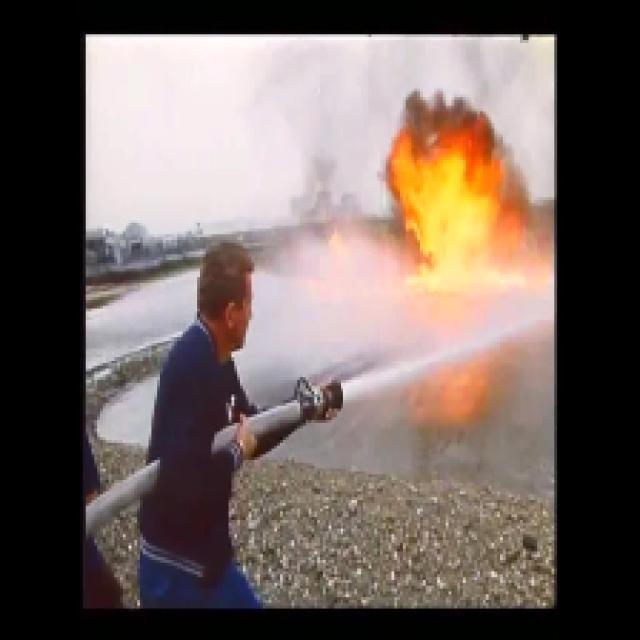Fire: (396, 133, 499, 279)
Smoke: (403, 91, 488, 124)
